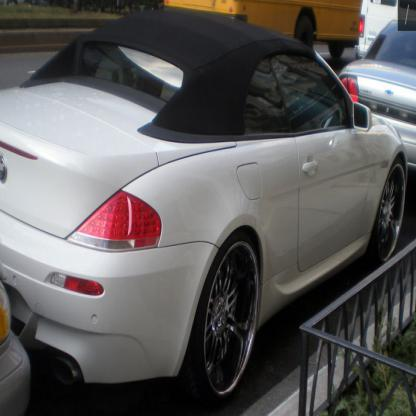Vehicle: (0, 6, 408, 408)
